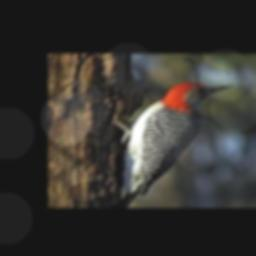Woodpecker: (117, 82, 231, 208)
